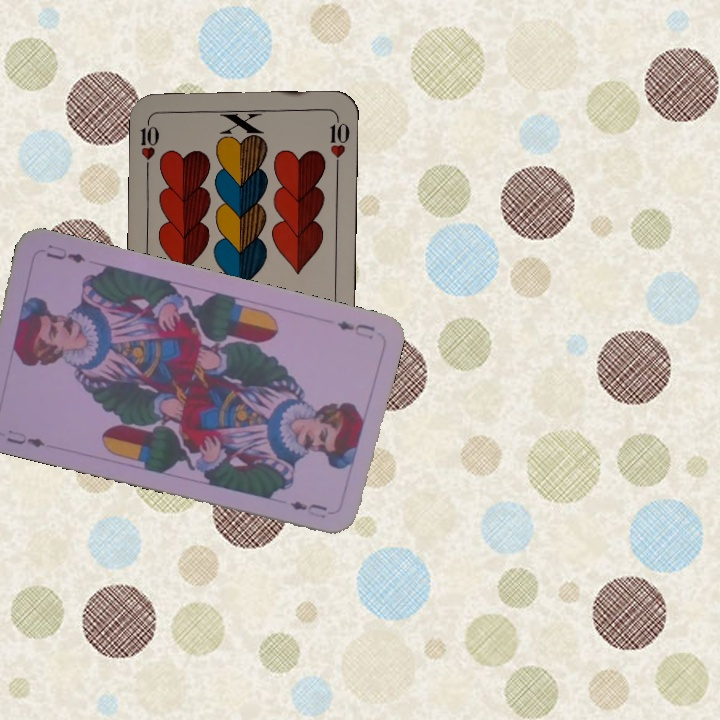EU: (2, 425, 48, 450), (333, 317, 377, 338)
H10: (136, 113, 162, 172)
